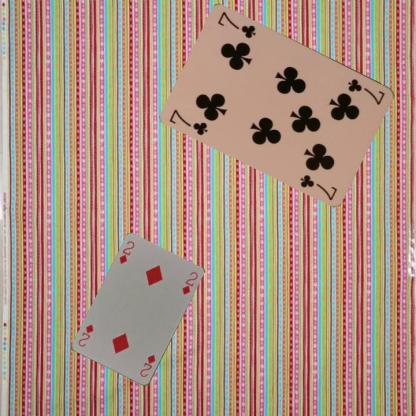2d: (138, 352, 157, 378), (116, 239, 135, 265)
7c: (167, 106, 209, 137), (346, 76, 386, 106)
